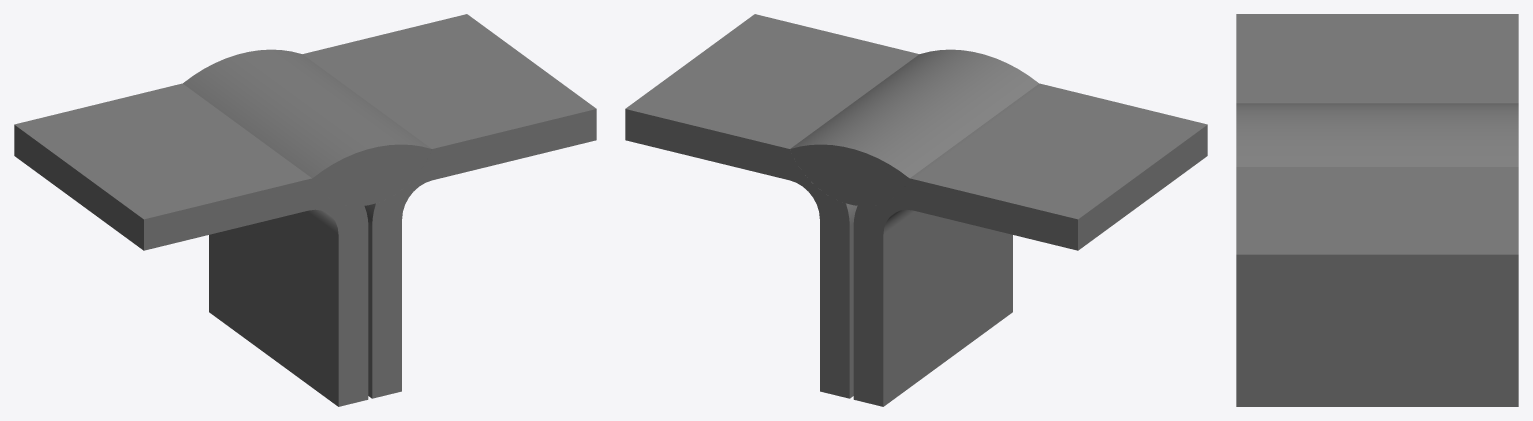
3 views of the same model, side by side, from view 1: azimuth 30°, elevation 25°; view 2: azimuth 150°, elevation 25°; view 3: azimuth 270°, elevation 25° (orthographic). The views are drawn at different scales.
Visible parts, largest first — view 1: mesh_id4, mesh_id5; view 2: mesh_id4, mesh_id5; view 3: mesh_id4, mesh_id5.
Boxes of the visible parts, x1,y1,x2,y2 form: mesh_id4: [14, 14, 596, 406]; mesh_id5: [183, 49, 431, 206]; mesh_id4: [625, 14, 1207, 406]; mesh_id5: [790, 49, 1038, 206]; mesh_id4: [1236, 14, 1518, 406]; mesh_id5: [1236, 103, 1518, 166].
Bounding box in the file's own units: 0.512 × 0.2706 × 0.2539.
4 materials, 4 textured.
